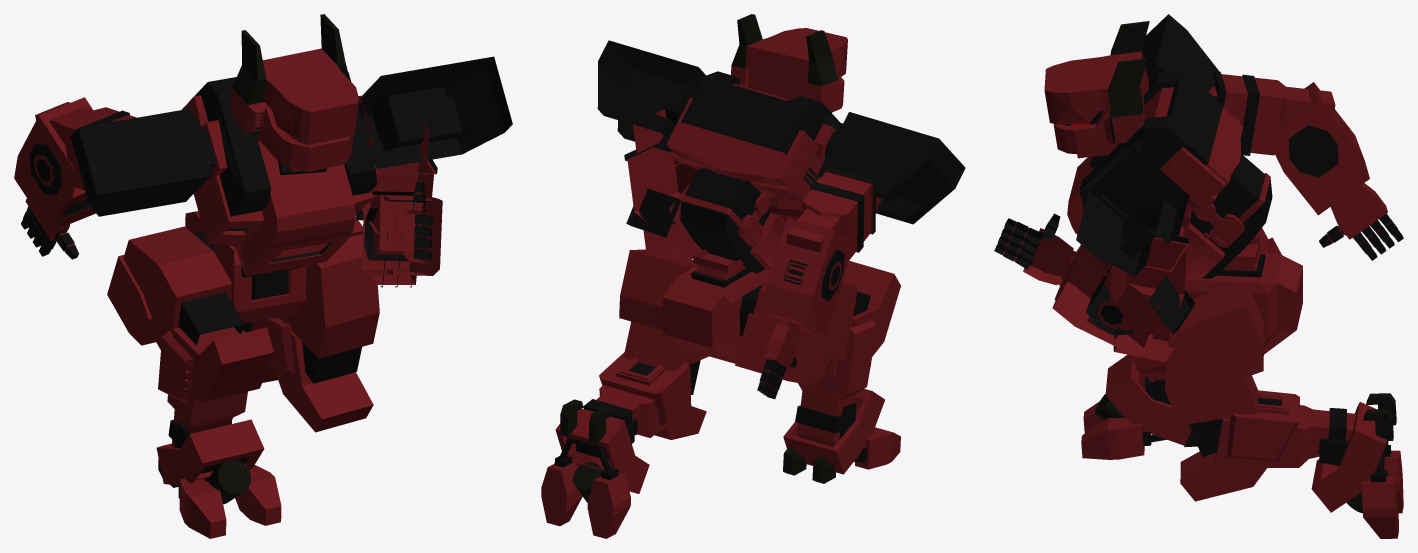
Rendered from walk3.obj.
The picture shows the model from 3 angles, left to right: view 1: azimuth 30°, elevation 25°; view 2: azimuth 150°, elevation 25°; view 3: azimuth 270°, elevation 25°; orthographic projection. The views are drawn at different scales.
Parts seen in each view (by area): view 1: R_UpperShoulder_Cube.030; view 2: R_UpperShoulder_Cube.030; view 3: R_UpperShoulder_Cube.030.
Boxes of the visible parts, x1,y1,x2,y2 form: R_UpperShoulder_Cube.030: (14, 14, 512, 538); R_UpperShoulder_Cube.030: (541, 14, 965, 538); R_UpperShoulder_Cube.030: (994, 14, 1403, 538).
Bounding box in the file's own units: 1.43 × 1.65 × 1.37.
